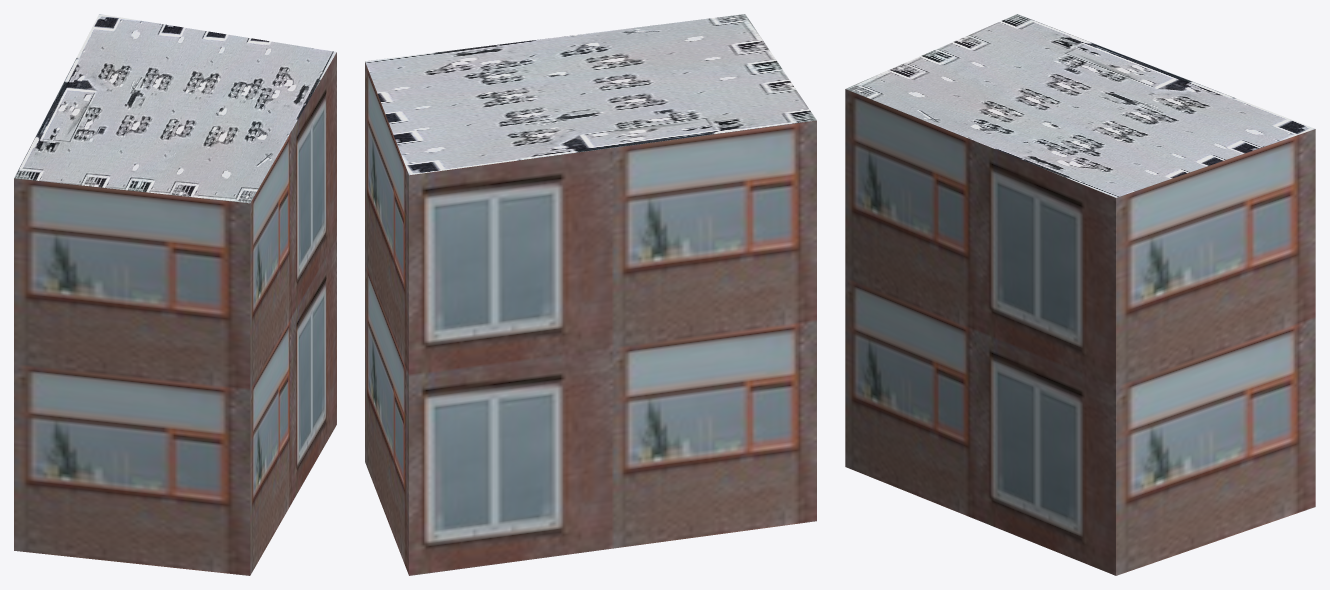
File: ResTex__1252.fbx
The picture shows the model from 3 angles, left to right: view 1: azimuth 30°, elevation 25°; view 2: azimuth 150°, elevation 25°; view 3: azimuth 270°, elevation 25°; orthographic projection. The views are drawn at different scales.
Parts seen in each view (by area): view 1: CityEngineMaterial_19_m, CityEngineMaterial_4_m; view 2: CityEngineMaterial_19_m, CityEngineMaterial_4_m; view 3: CityEngineMaterial_19_m, CityEngineMaterial_4_m.
Boxes of the visible parts, <box> form: CityEngineMaterial_19_m: <box>14,52,336,575</box>; CityEngineMaterial_4_m: <box>14,14,336,203</box>; CityEngineMaterial_19_m: <box>365,62,816,575</box>; CityEngineMaterial_4_m: <box>365,14,816,175</box>; CityEngineMaterial_19_m: <box>845,89,1315,575</box>; CityEngineMaterial_4_m: <box>846,14,1314,197</box>.
Bounding box in the file's own units: 6.26 × 6 × 6.77.
2 materials, 2 textured.
